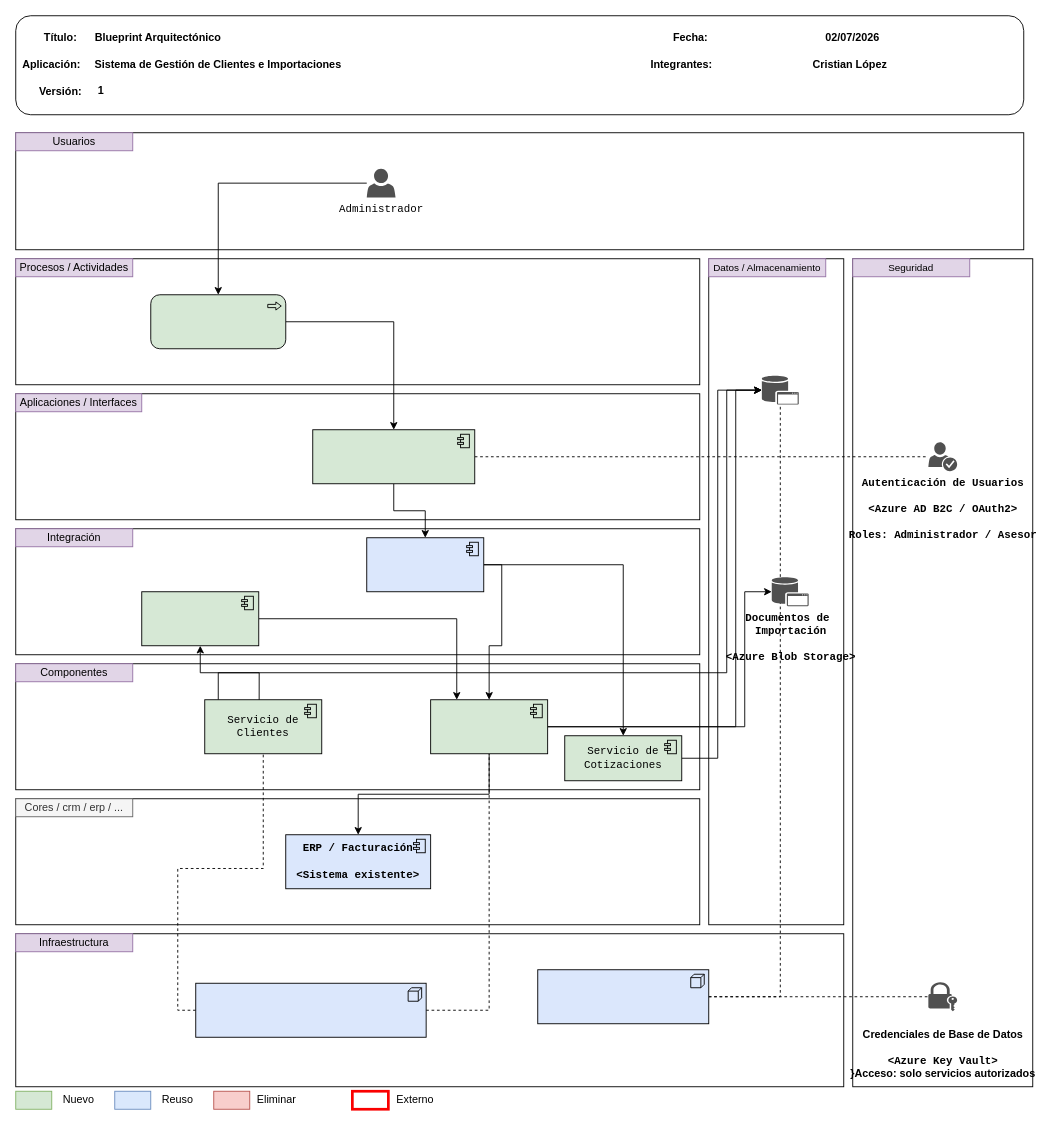
The diagram is 1052 pixels wide and 1130 high, and some of its shapes have lost their labels. The shapes that lost their labels are listed below. From the top down, each one's centre as x and y in pixels, then its label:
At pixel 218 321: "Gestiona clientes y solicitudes de importación".
At pixel 779 389: "Base de Datos Clientes e Importaciones <Azure SQL>".
At pixel 393 456: "Portal Web CRM de Importaciones".
At pixel 425 564: "API Gateway / Middleware <Apigee>".
At pixel 200 618: "Cola de Eventos de Importación <Kafka>".
At pixel 489 726: "Servicio de Solicitudes de Importación".
At pixel 310 1009: "AKS - Microservicios Backend <api.empresa.com> IP: privada".
At pixel 623 996: "Azure SQL <bd.empresa.com> IP: privada".
